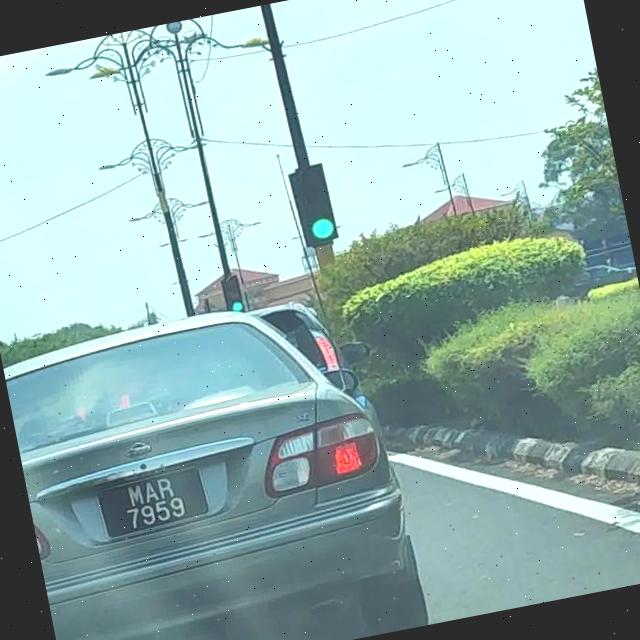green_light: (295, 162, 339, 244), (221, 273, 246, 316)
